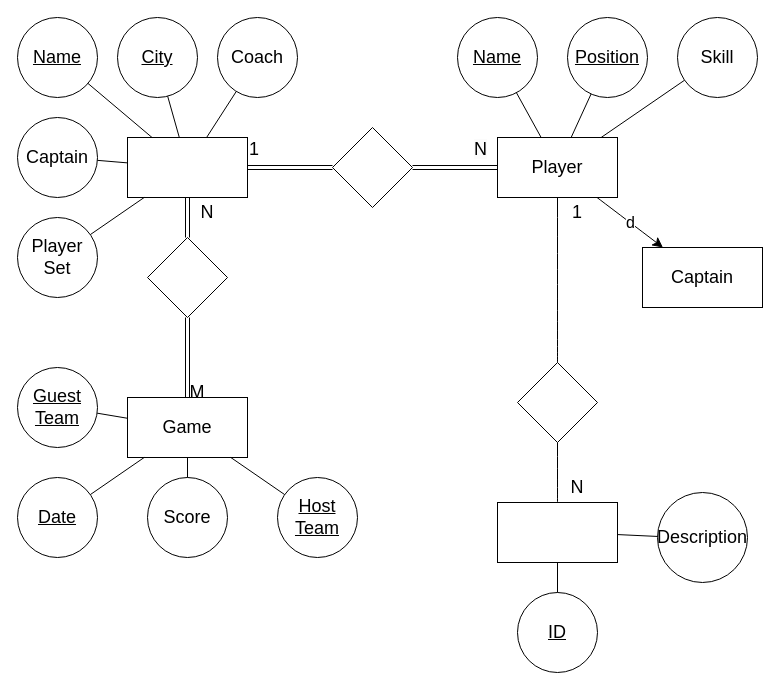
This 780x690 diagram has some shape labels left out. The shapes that lost their labels are listed below. From the top down, each one's centre as x and y in pixels, then its label:
At (x=187, y=167): "Team".
At (x=372, y=167): "Plays For".
At (x=187, y=277): "Play".
At (x=557, y=402): "Has".
At (x=557, y=532): "Injury Record".
